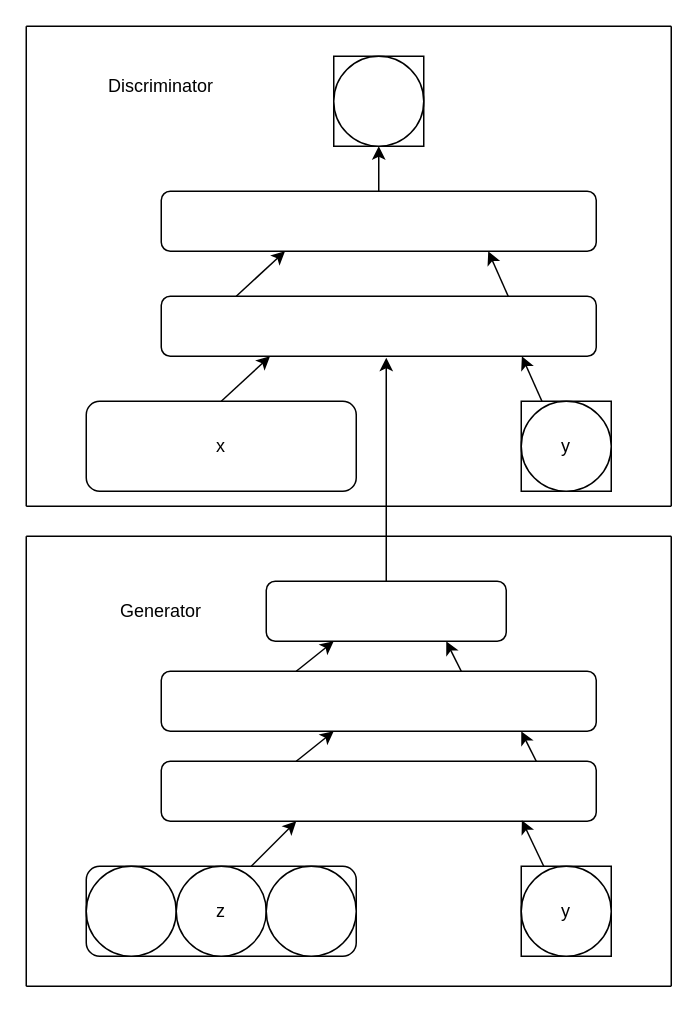
The diagram is 699 pixels wide and 1014 high, and some of its shapes have lost their labels. The shapes that lost their labels are listed below. From the top down, each one's centre as x and y in pixels, then its label:
At point 378,100: "D(x,y)".
At point 385,610: "G(z,y)".
